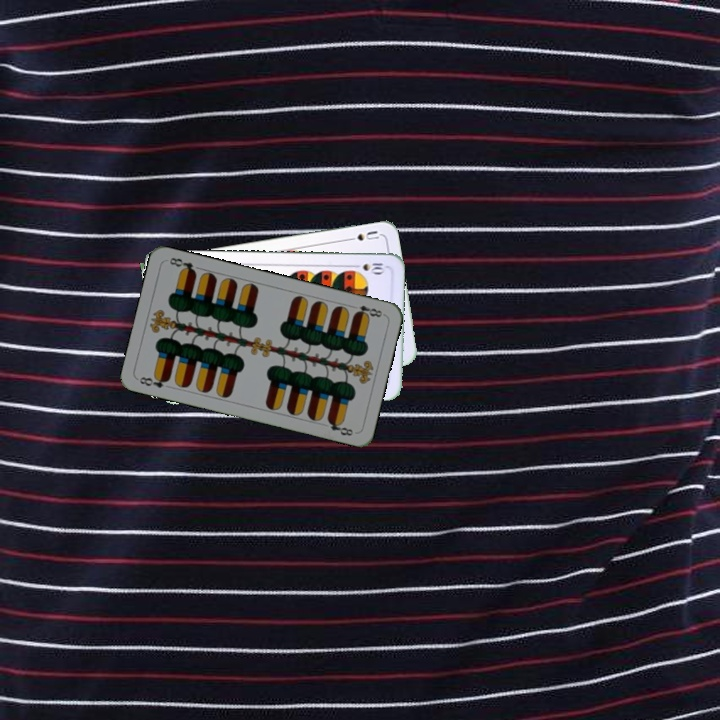E8: (347, 301, 387, 320), (135, 371, 172, 391)
S10: (348, 259, 387, 275)
SU: (342, 227, 382, 244)
